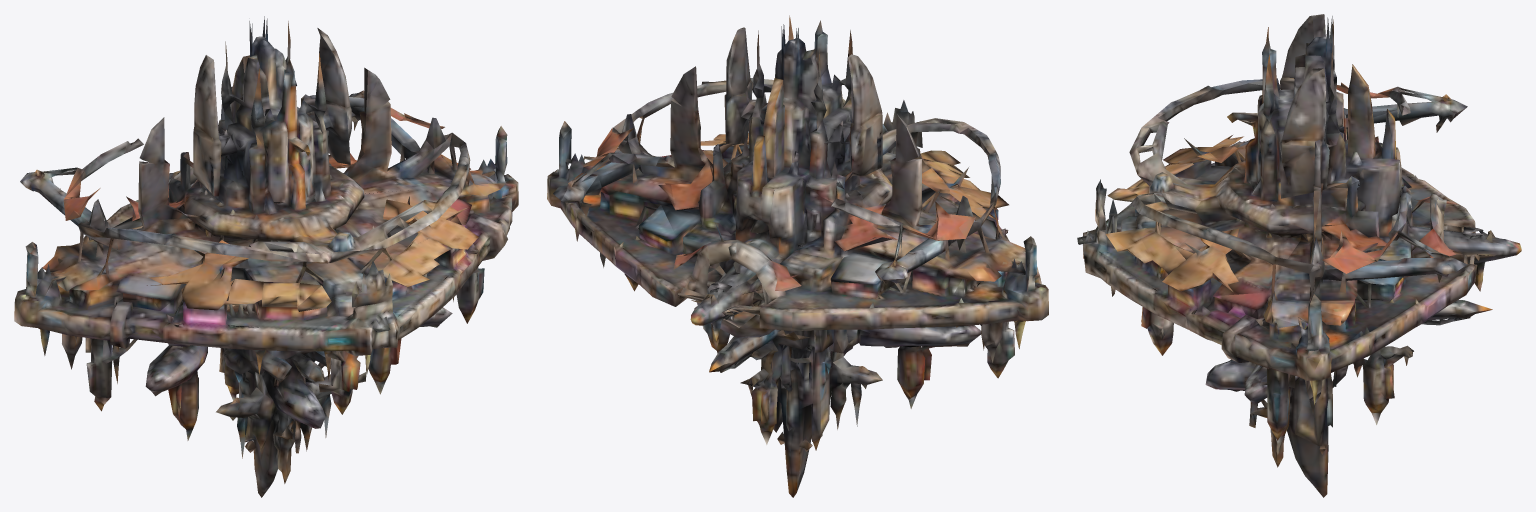
The model's file is HL_Station_Unclaimed_Capital_retopo.glb.
3 views of the same model, side by side, from view 1: azimuth 30°, elevation 25°; view 2: azimuth 150°, elevation 25°; view 3: azimuth 270°, elevation 25° (orthographic).
Visible parts, largest first — view 1: HL_Station_Unclaimed_Capital_retopo; view 2: HL_Station_Unclaimed_Capital_retopo; view 3: HL_Station_Unclaimed_Capital_retopo.
Part boxes in pixels (x1,y1,x2,y2): HL_Station_Unclaimed_Capital_retopo: (14, 16, 518, 497); HL_Station_Unclaimed_Capital_retopo: (547, 15, 1048, 497); HL_Station_Unclaimed_Capital_retopo: (1077, 14, 1521, 497).
Bounding box in the file's own units: 0.9675 × 0.8866 × 0.7449.
Materials: 1 (1 with a texture image).
